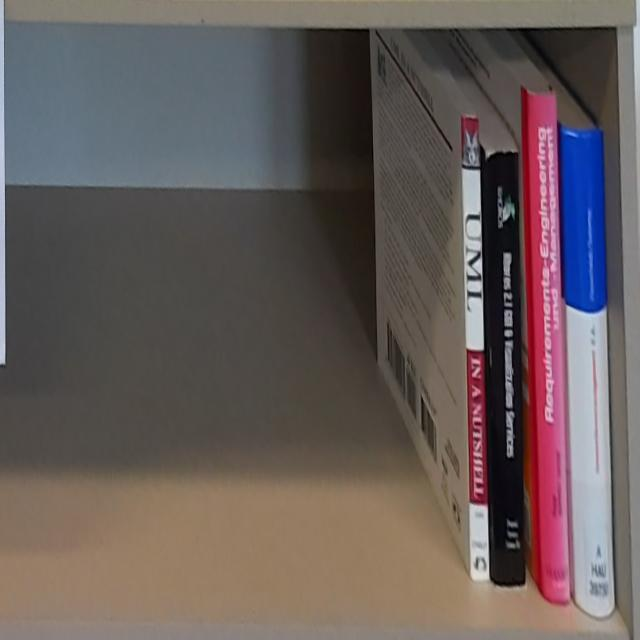Book Spine: (562, 132, 614, 622), (525, 89, 570, 605), (485, 154, 525, 588), (461, 119, 489, 585)
